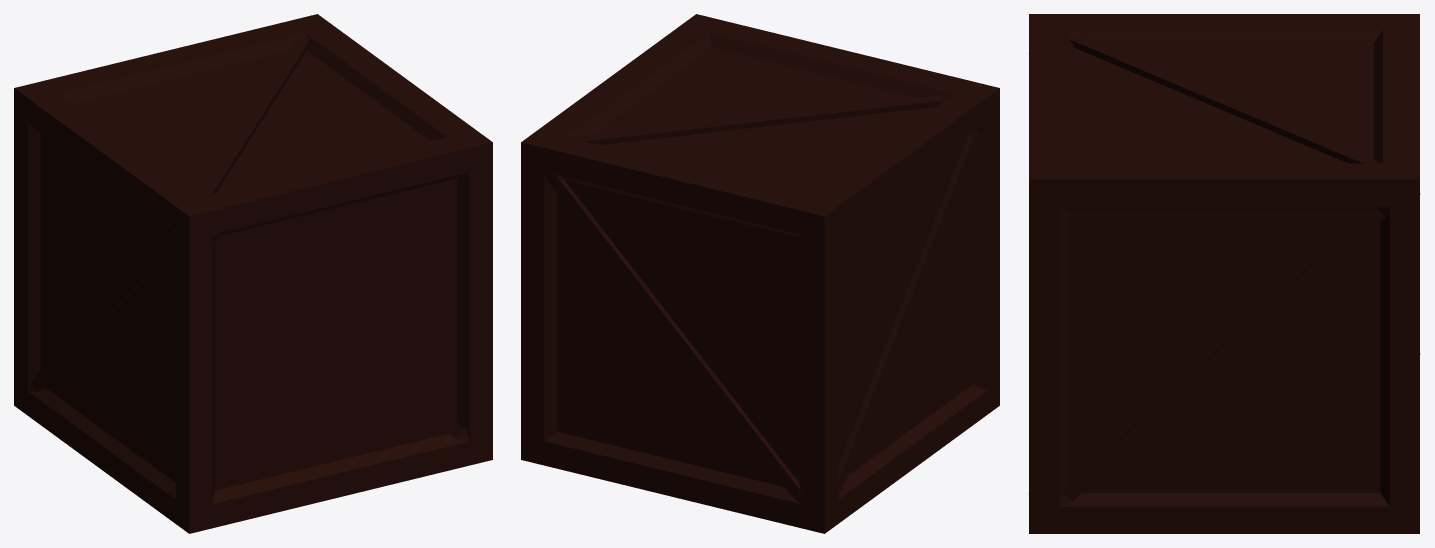
3 views of the same model, side by side, from view 1: azimuth 30°, elevation 25°; view 2: azimuth 150°, elevation 25°; view 3: azimuth 270°, elevation 25° (orthographic). The views are drawn at different scales.
Visible parts, largest first — view 1: box-01; view 2: box-01; view 3: box-01.
Boxes of the visible parts, x1=… form: box-01: x1=14, y1=14, x2=492, y2=533; box-01: x1=521, y1=14, x2=999, y2=533; box-01: x1=1029, y1=14, x2=1420, y2=533.
Size of the model in its own units: 87.95 by 87.95 by 88.
